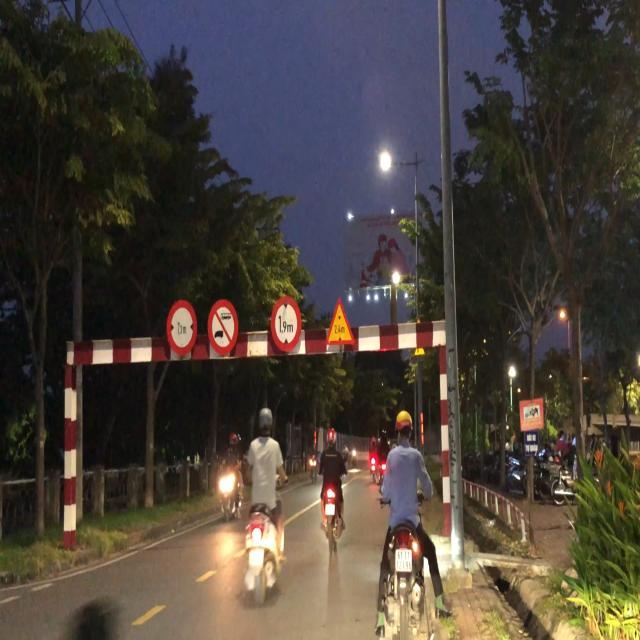Bien bao cam xe oto khach va xe oto tai: (205, 295, 240, 355)
Bien bao chieu cao tinh khong thuc te: (324, 292, 356, 348)
Bien bao han che chieu cao: (267, 291, 303, 353)
